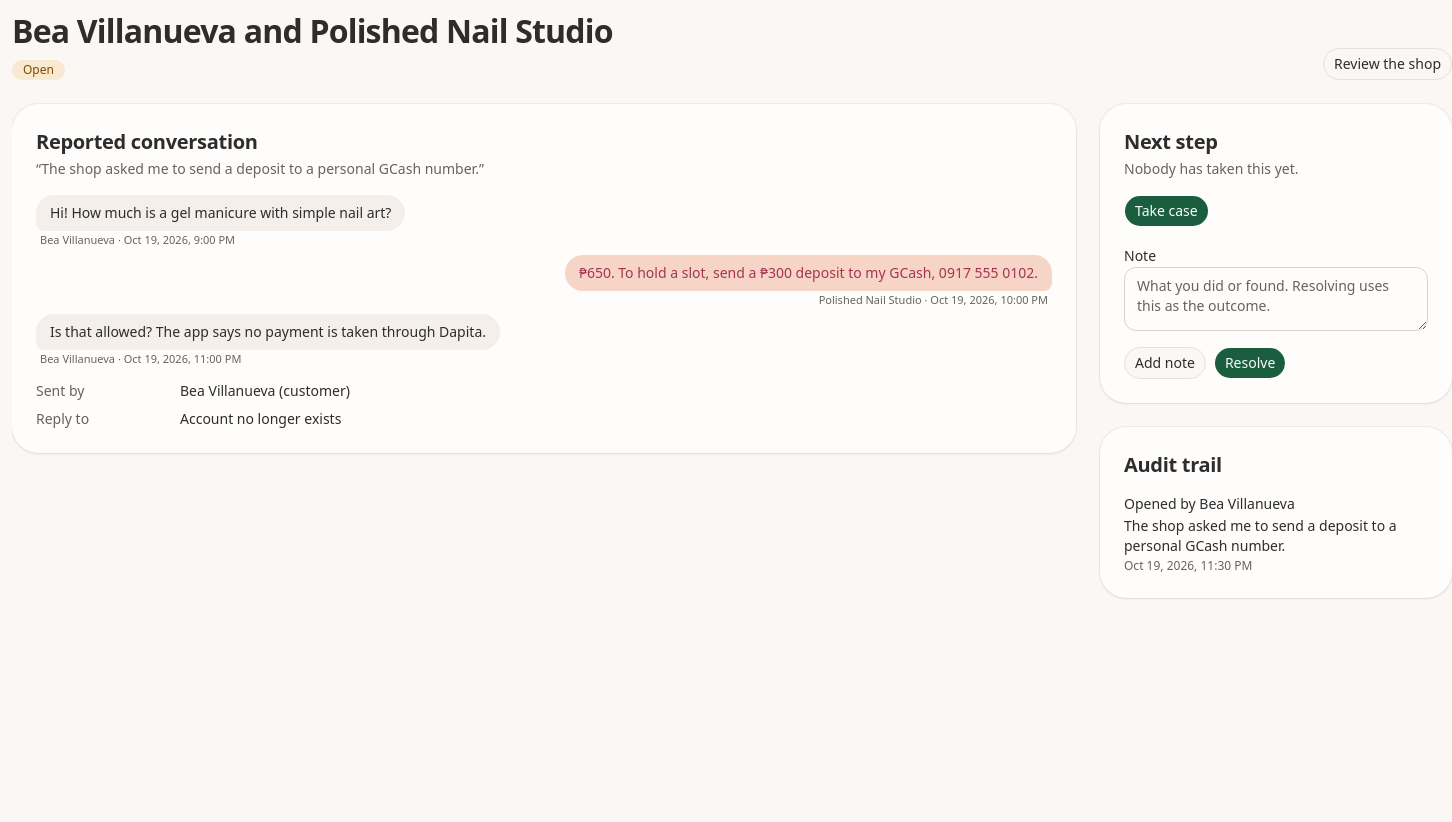
Test case: AdminCasePage › shows the conversation and works the case through to resolved
This screenshot has width=1452, height=822.
Check: the text "send a ₱300 deposit to my GCash" is shown, box x1=579 y1=263 x2=1038 y2=282
Click the button "Take case" at (1166,211), box x1=1124 y1=195 x2=1209 y2=227
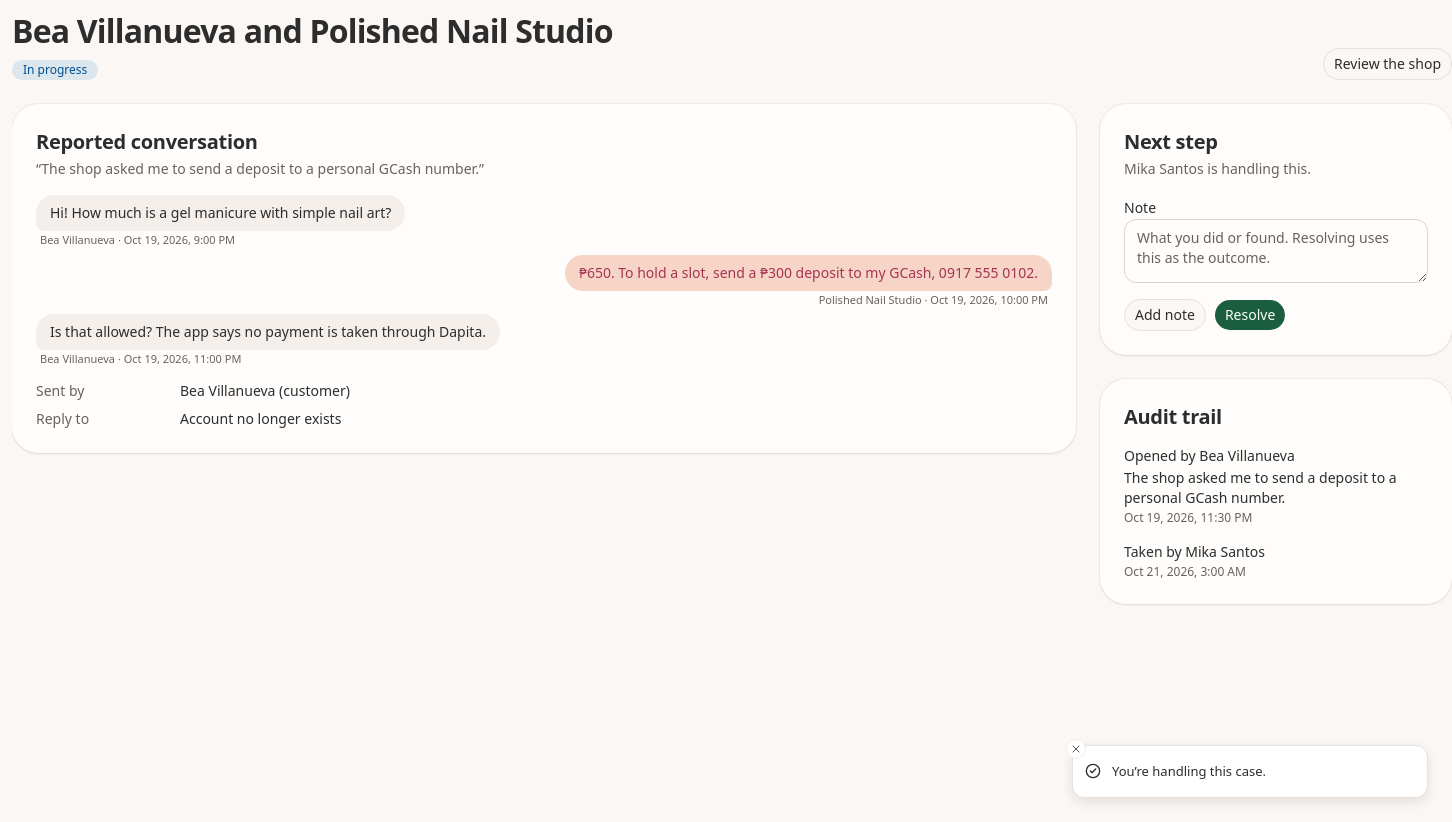
Check: the text "In progress" is shown, box x1=12 y1=60 x2=98 y2=80
Type "Messaged the shop about deposits." into the text box labelled "Note" at (1276,251), box x1=1124 y1=219 x2=1428 y2=283
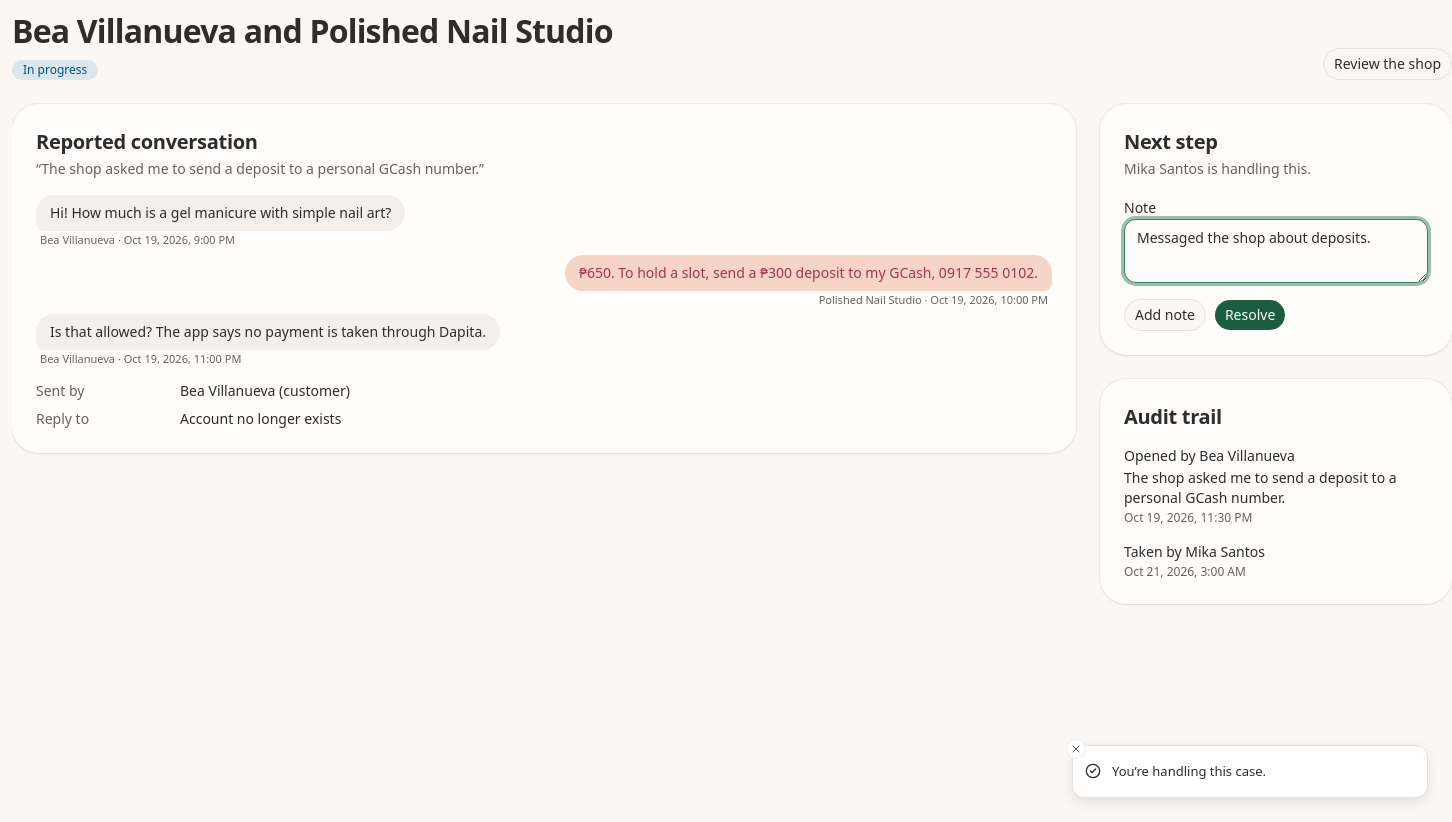
Click the button "Add note" at (1165,315), box x1=1124 y1=299 x2=1206 y2=331
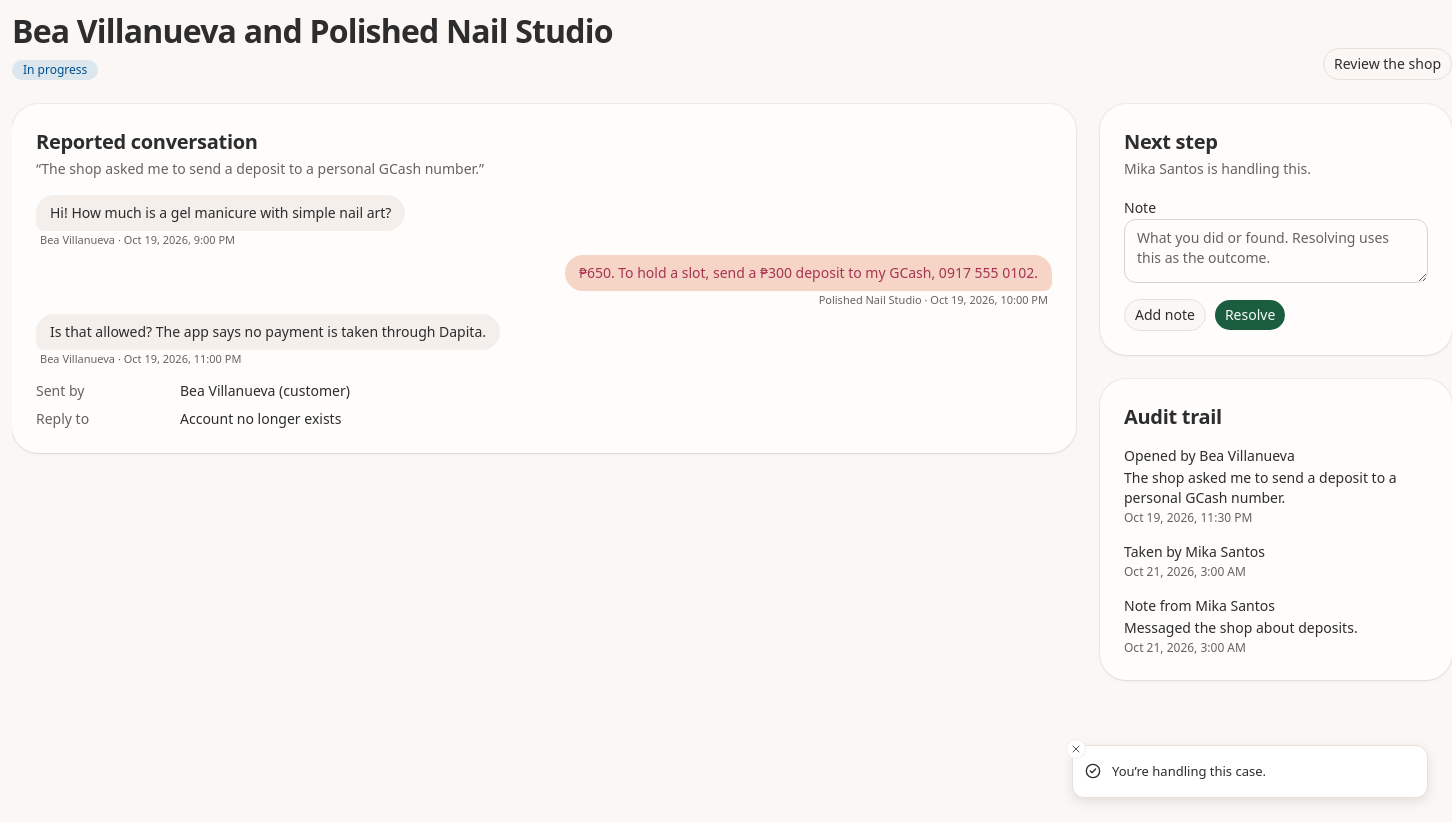
Check: the text "Messaged the shop about deposits." is shown, box x1=1124 y1=618 x2=1358 y2=637
Type "Shop now takes deposits in person only." into the text box labelled "Note" at (1276,251), box x1=1124 y1=219 x2=1428 y2=283
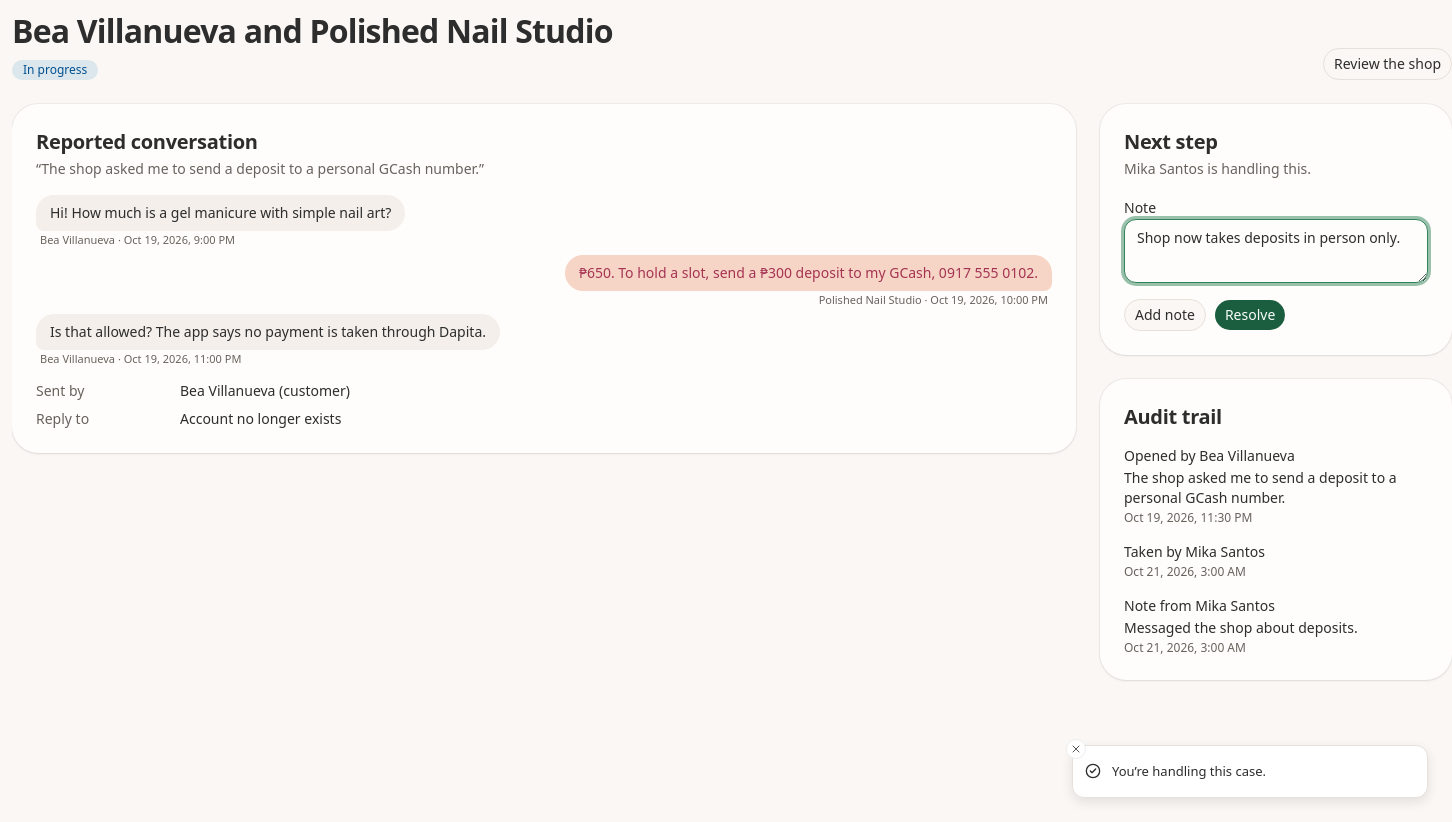
Click the button "Resolve" at (1250,315), box x1=1214 y1=299 x2=1286 y2=331
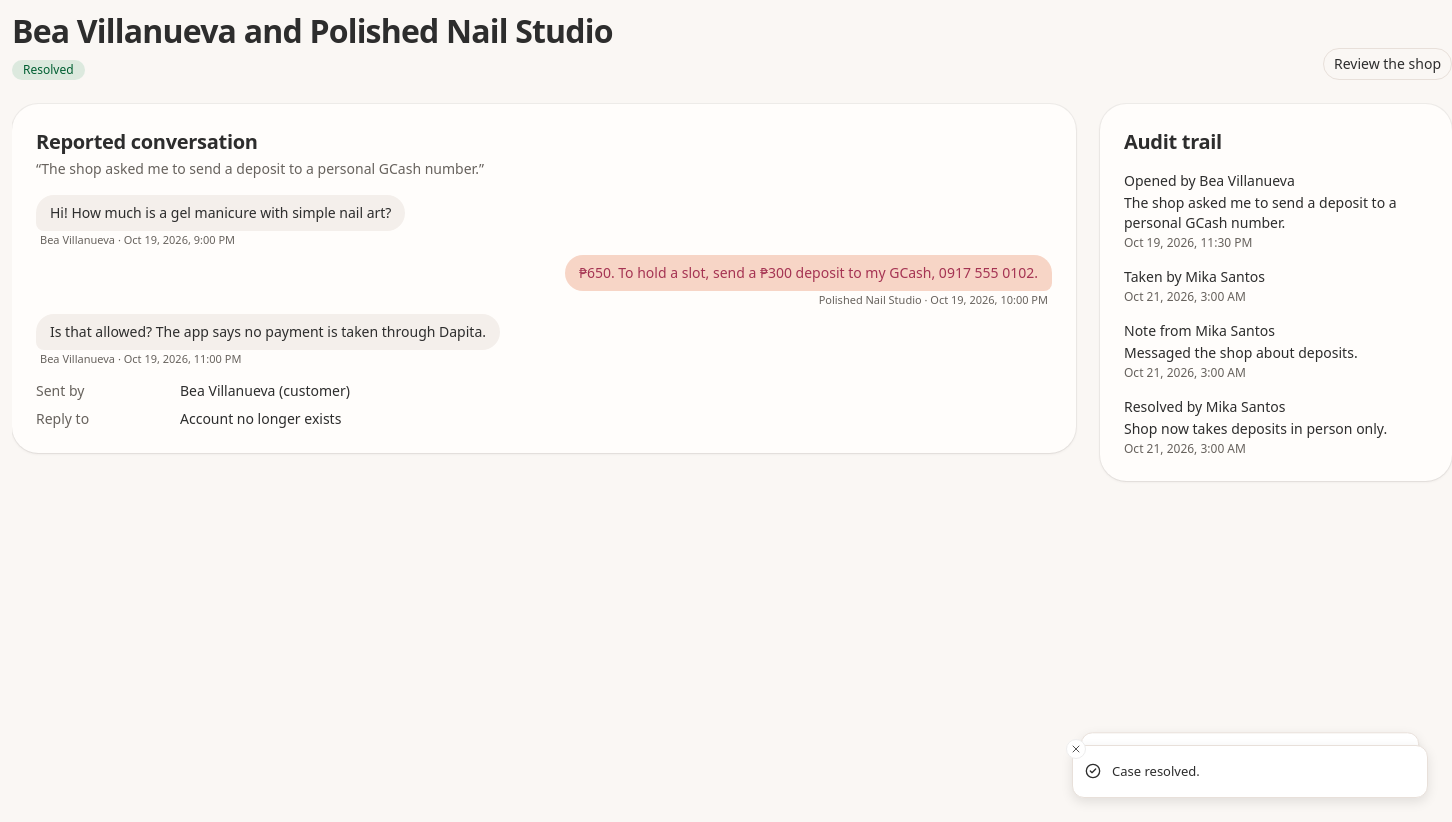
Check: the button "Take case" is not shown
Check: the text "Case resolved." is shown, box x1=1112 y1=762 x2=1200 y2=781
Check: the text "Resolved by Mika Santos" is shown, box x1=1124 y1=397 x2=1286 y2=416
